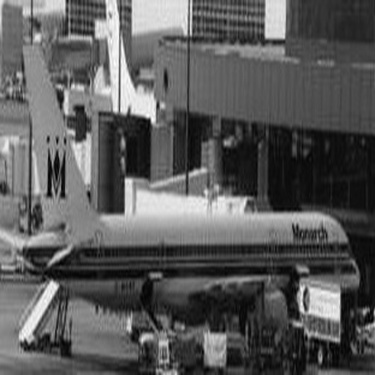airplane: (13, 31, 373, 351)
